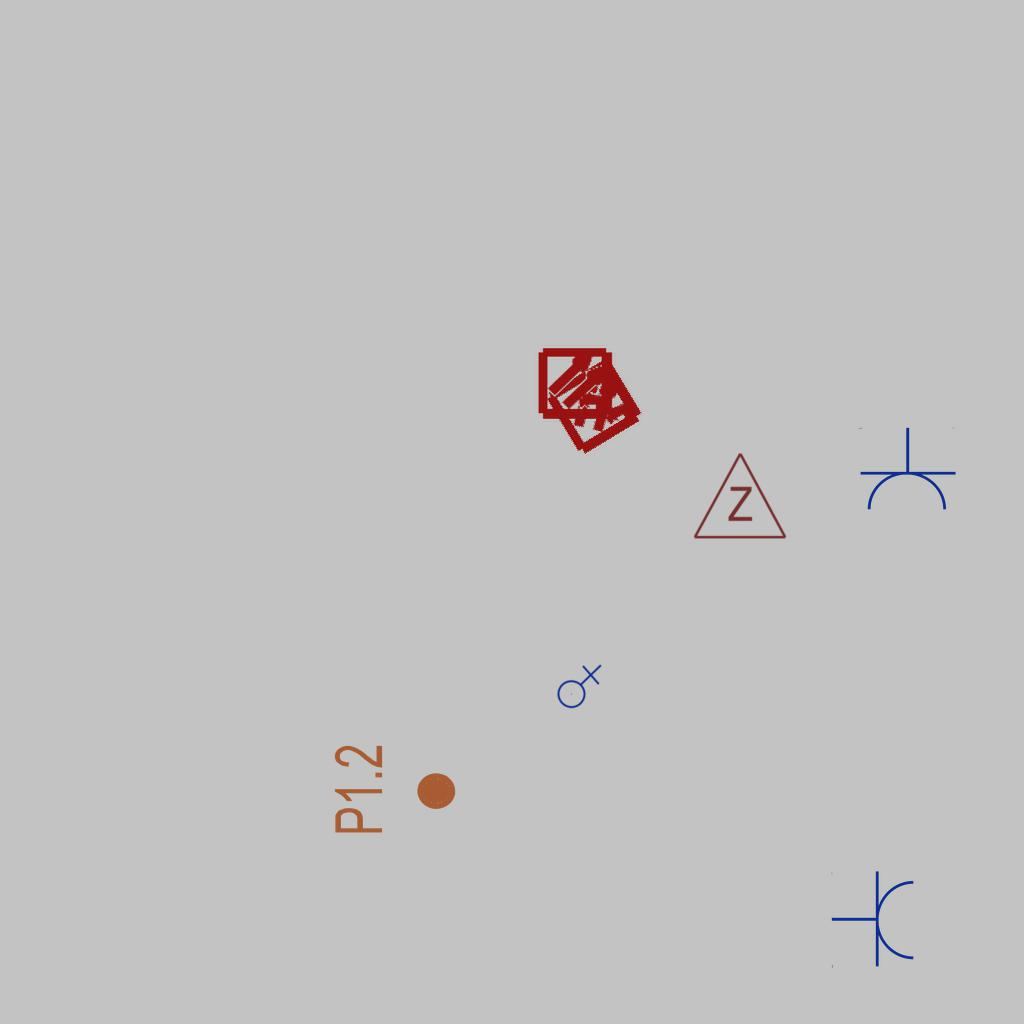Downlight_LED_Einbauleuchten_Flur: (331, 743, 459, 836)
Elektroanschluss_allgemein_230V_Geraeteanschlussdose_230V: (553, 662, 602, 709)
OT_Multisensormelder_(Kombination_RMO_WMD): (518, 327, 675, 484), (521, 327, 634, 440)
Schukosteckdose_einfach: (831, 870, 918, 970), (857, 427, 957, 514)
Zimmersignalleuchte: (690, 446, 788, 546)
